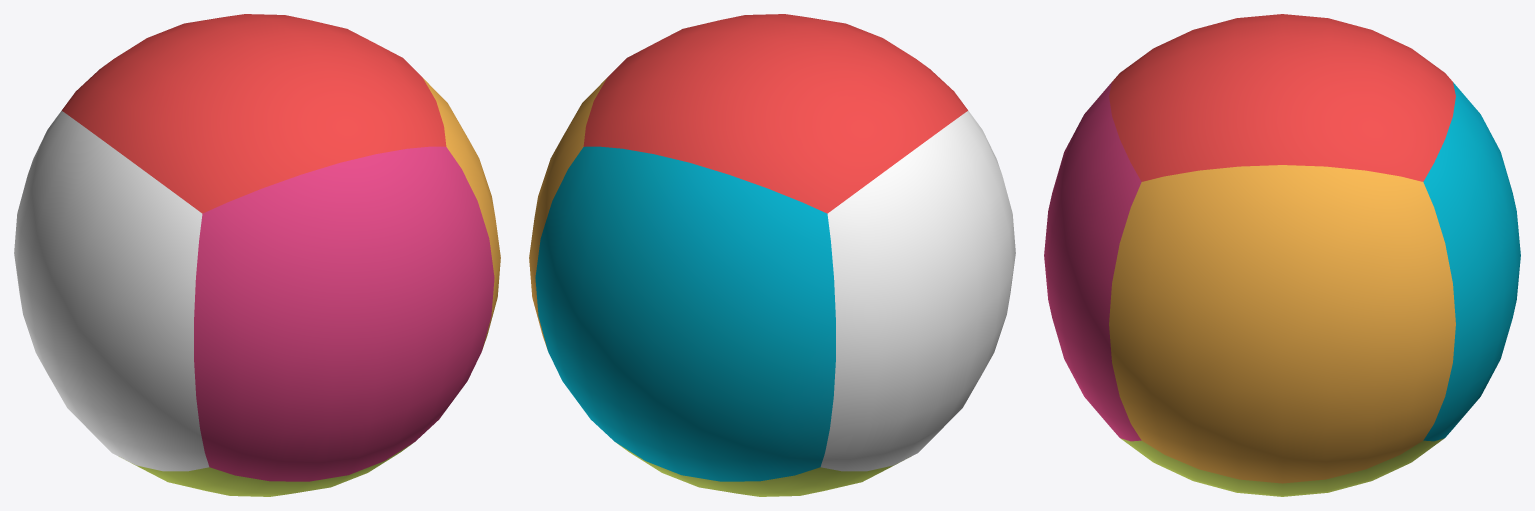
Rendered from Ball.fbx.
The picture shows the model from 3 angles, left to right: view 1: azimuth 30°, elevation 25°; view 2: azimuth 150°, elevation 25°; view 3: azimuth 270°, elevation 25°; orthographic projection.
Parts seen in each view (by area): view 1: Ball; view 2: Ball; view 3: Ball.
Part boxes in pixels (x1,y1,x2,y2): Ball: (14, 14, 500, 496); Ball: (529, 14, 1015, 496); Ball: (1044, 14, 1520, 496).
Bounding box in the file's own units: 39.64 × 39.64 × 39.66.
1 material, 1 textured.
